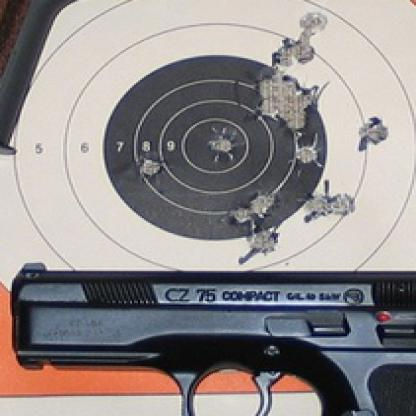gun: (0, 0, 415, 152), (14, 262, 414, 414)
